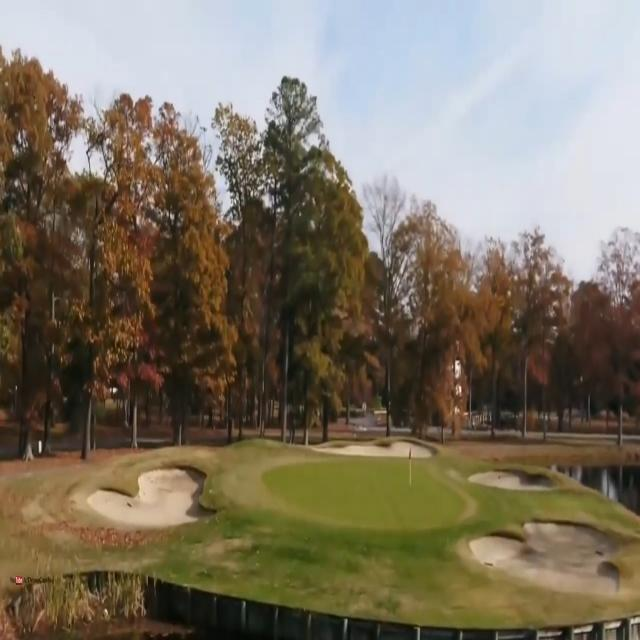Pole: (402, 444, 420, 492)
